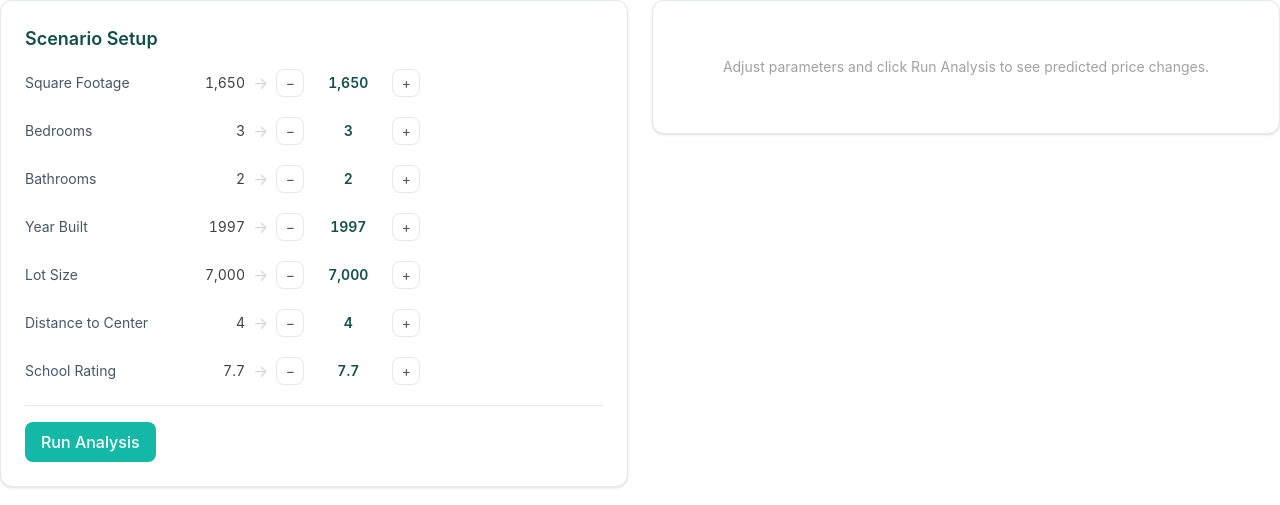
Test: WhatIfForm › shows error display on API failure
Click the button with test id "content.what-if.run": click(90, 442) [25,422,156,462]
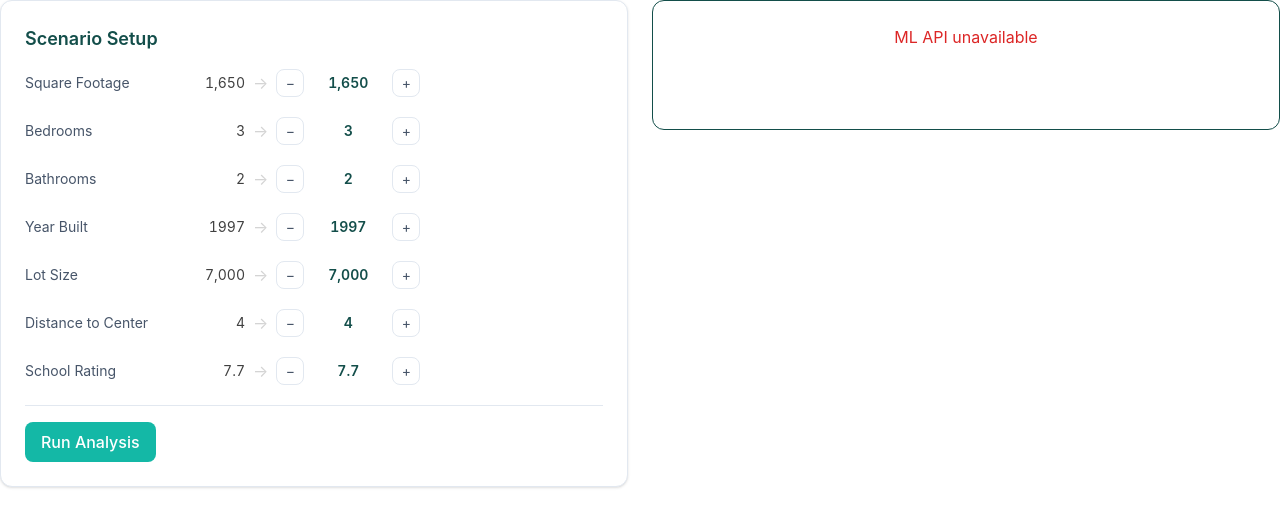
Result: the element with test id "content.what-if.error" is shown at [652,0,1279,130]
Result: the text "ML API unavailable" is shown at [894,27,1038,47]
